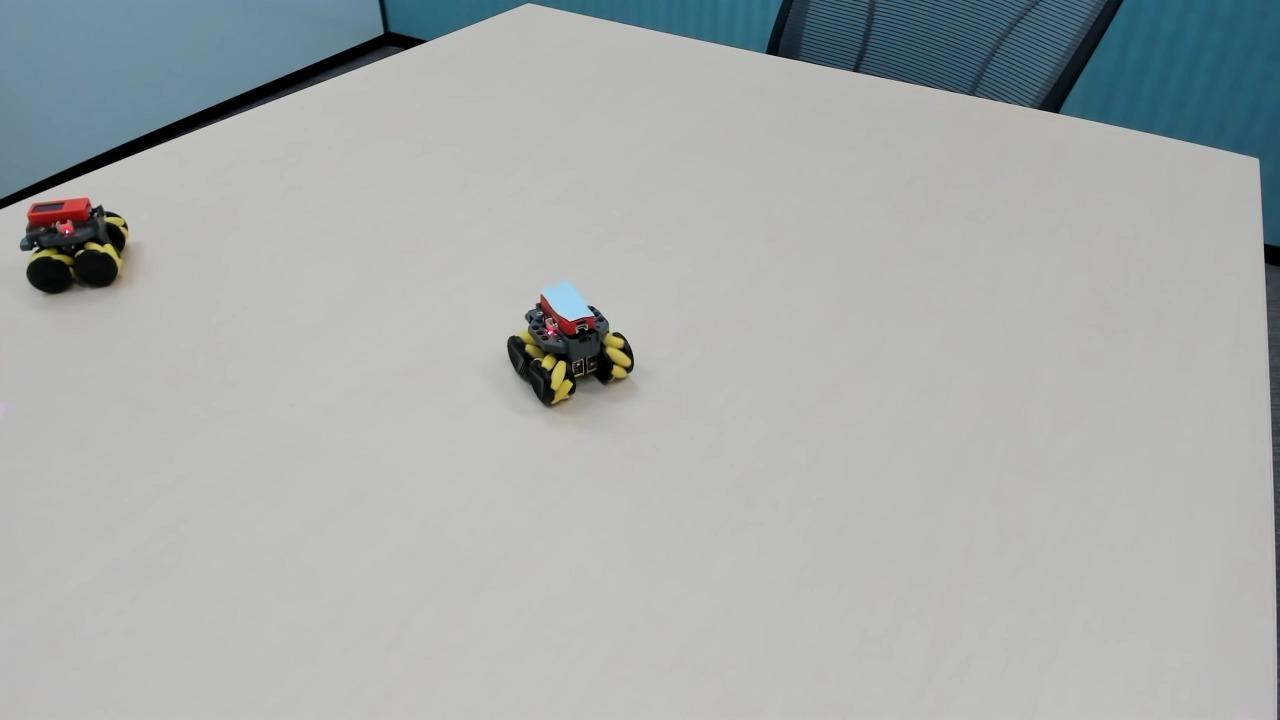B-Robot: (493, 276, 644, 436)
R-Robot: (12, 186, 138, 313)
